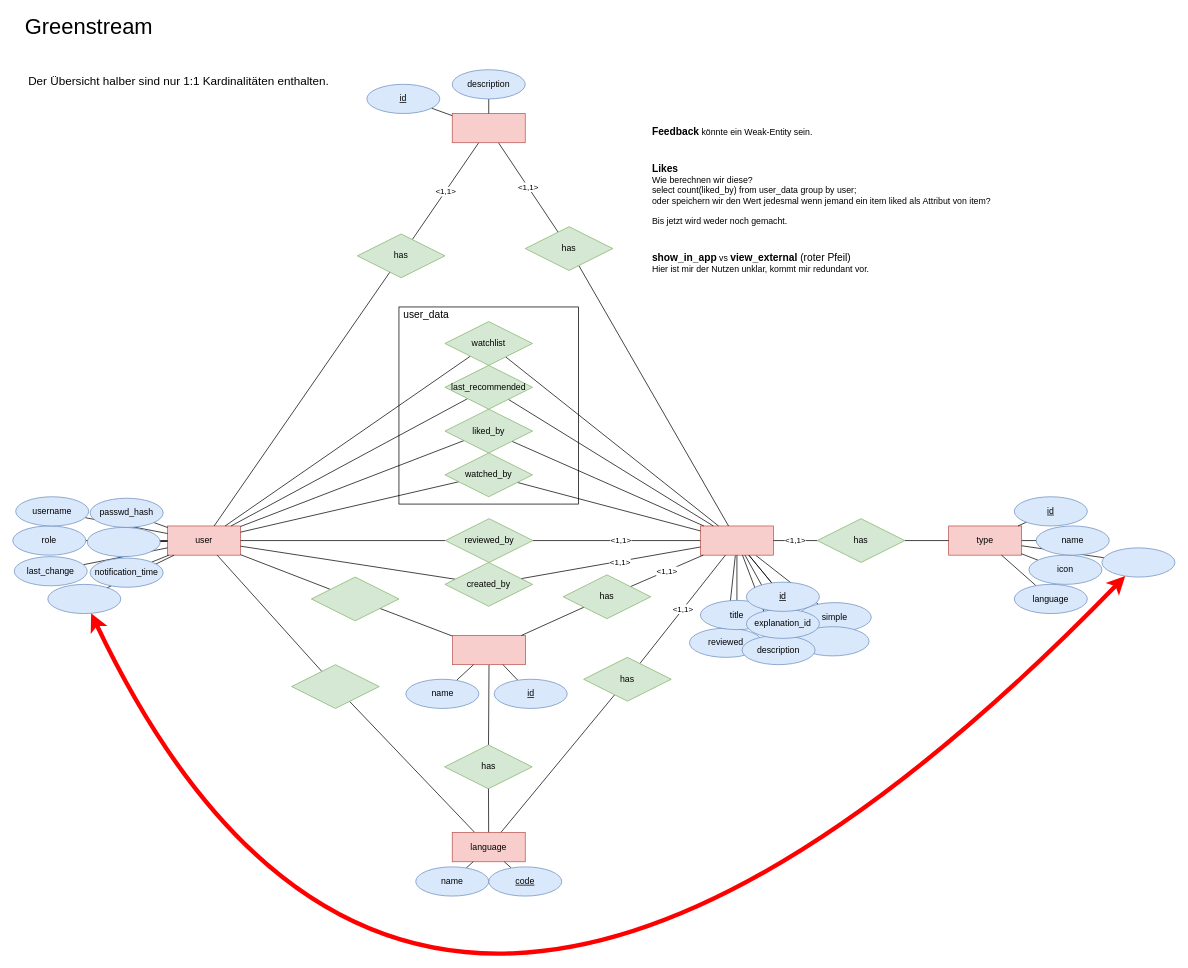
The diagram is 1188 pixels wide and 968 high, and some of its shapes have lost their labels. Here are the shapes that lost their labels. From the top down, the centre of each, then its label:
point (488, 128): feedback
point (123, 542): email
point (736, 540): item
point (1138, 562): view_external
point (84, 599): show_in_app
point (355, 598): interested_in
point (489, 650): topic
point (832, 641): url
point (335, 686): prefers
